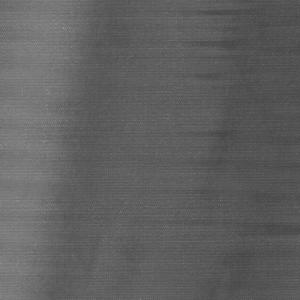Wrinkle: (169, 1, 300, 300)
